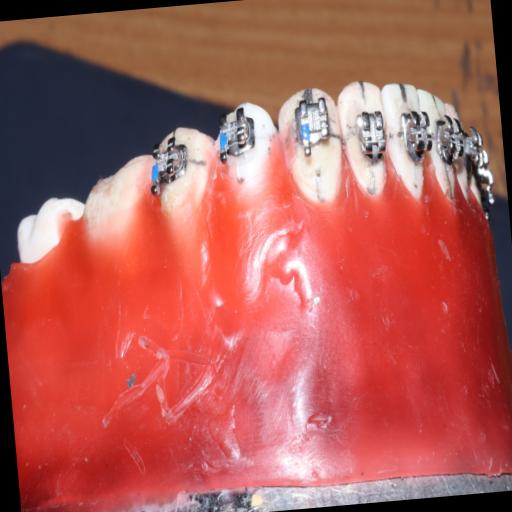correct_brace: (352, 103, 390, 168)
incorrect_brace: (334, 69, 393, 205), (286, 91, 336, 160)
